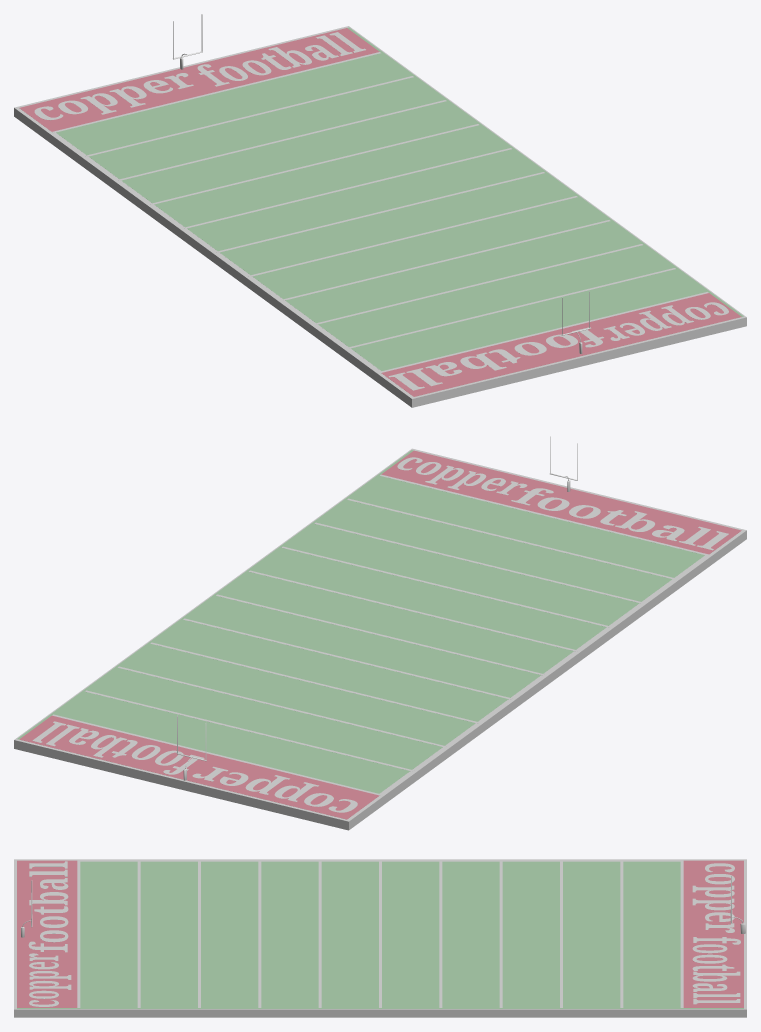
Rendered from cenario6.glb.
The picture shows the model from 3 angles, top to bottom: view 1: azimuth 30°, elevation 25°; view 2: azimuth 150°, elevation 25°; view 3: azimuth 270°, elevation 25°; orthographic projection. The views are drawn at different scales.
Parts seen in each view (by area): view 1: lambert2SG_001-material; view 2: lambert2SG_001-material; view 3: lambert2SG_001-material.
Boxes of the visible parts, bbox=[...] form: lambert2SG_001-material: bbox=[14, 26, 746, 407]; lambert2SG_001-material: bbox=[14, 448, 746, 830]; lambert2SG_001-material: bbox=[14, 859, 746, 1017].
Size of the model in its own units: 118 by 21.75 by 243.
